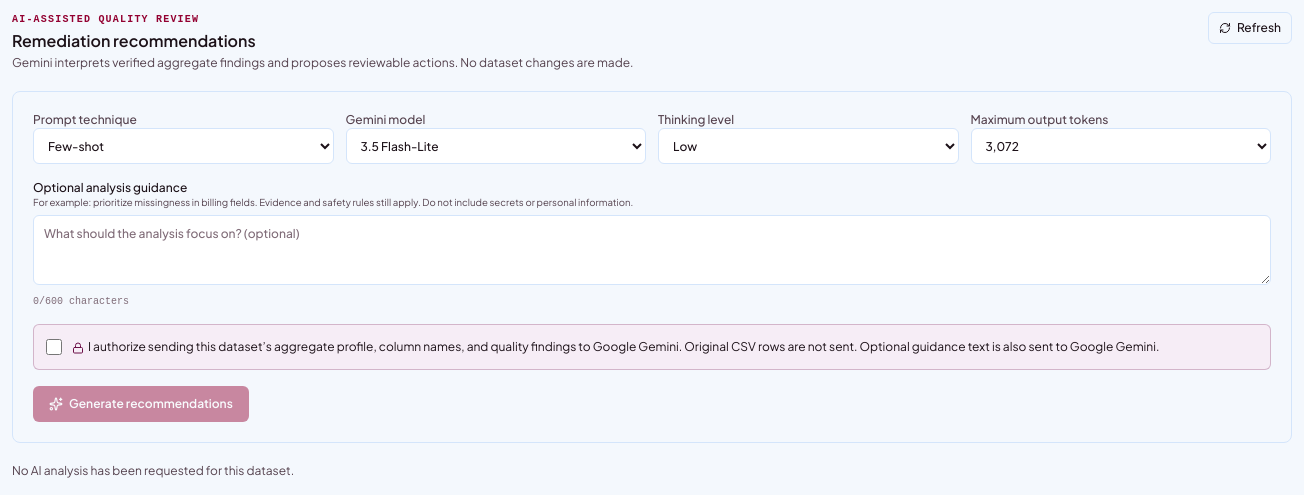
AIRemediationPanel › requires explicit consent before issuing a generative analysis request
Later steps or results of the test are not shown.
Check: the button "Generate recommendations" is disabled, box [33,386,249,422]
Click the checkbox: (54, 347) [46,339,62,355]
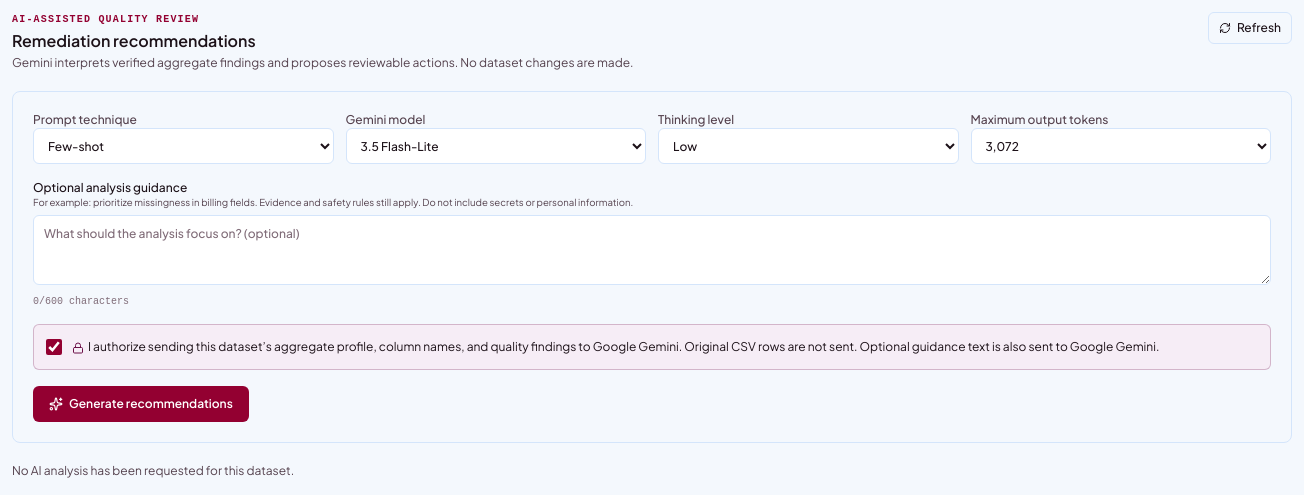
Check: the button "Generate recommendations" is enabled, box [33,386,249,422]
